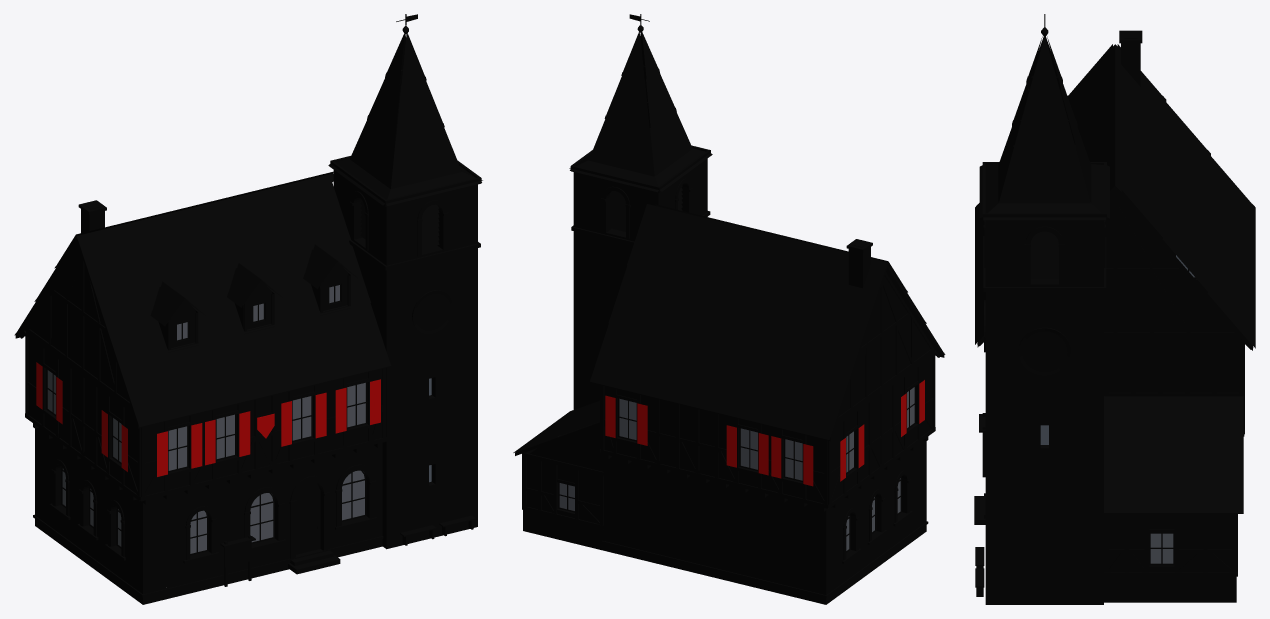
The model's file is rathaus.glb.
3 views of the same model, side by side, from view 1: azimuth 30°, elevation 25°; view 2: azimuth 150°, elevation 25°; view 3: azimuth 270°, elevation 25° (orthographic). The views are drawn at different scales.
Visible parts, largest first — view 1: Haus, Dach, Scheiben; view 2: Haus, Dach, Scheiben; view 3: Haus, Dach, Scheiben.
Boxes of the visible parts, box(x1,y1,x2,y2) form: Haus: box(25, 156, 481, 604); Dach: box(14, 14, 482, 428); Scheiben: box(47, 285, 431, 553); Haus: box(522, 145, 935, 604); Dach: box(513, 14, 945, 455); Scheiben: box(559, 387, 914, 550); Haus: box(974, 162, 1244, 604); Dach: box(975, 14, 1255, 513); Scheiben: box(1040, 255, 1194, 563).
Bounding box in the file's own units: 15.98 × 22.12 × 9.98.
